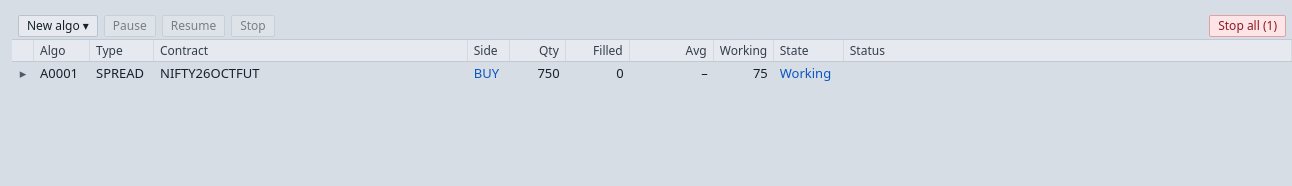
Test: Algo manager › an expanded row shows the algo's figures, settings and child orders
This screenshot has width=1292, height=186.
Click the button named "Show A0001 details": (23, 73) [12,62,34,84]
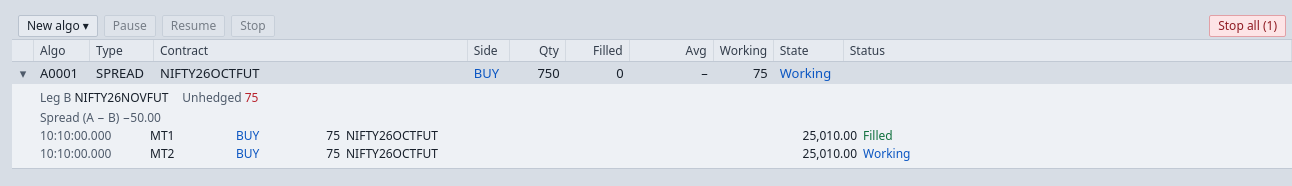
Check: the element named "A0001 details" shows "NIFTY26NOVFUT", box [74,89,168,106]
Check: the element named "A0001 details" shows "Unhedged 75", box [12,84,1291,169]
Check: the element named "Settings" reads "Spread (A − B) −50.00", box [40,109,161,126]
